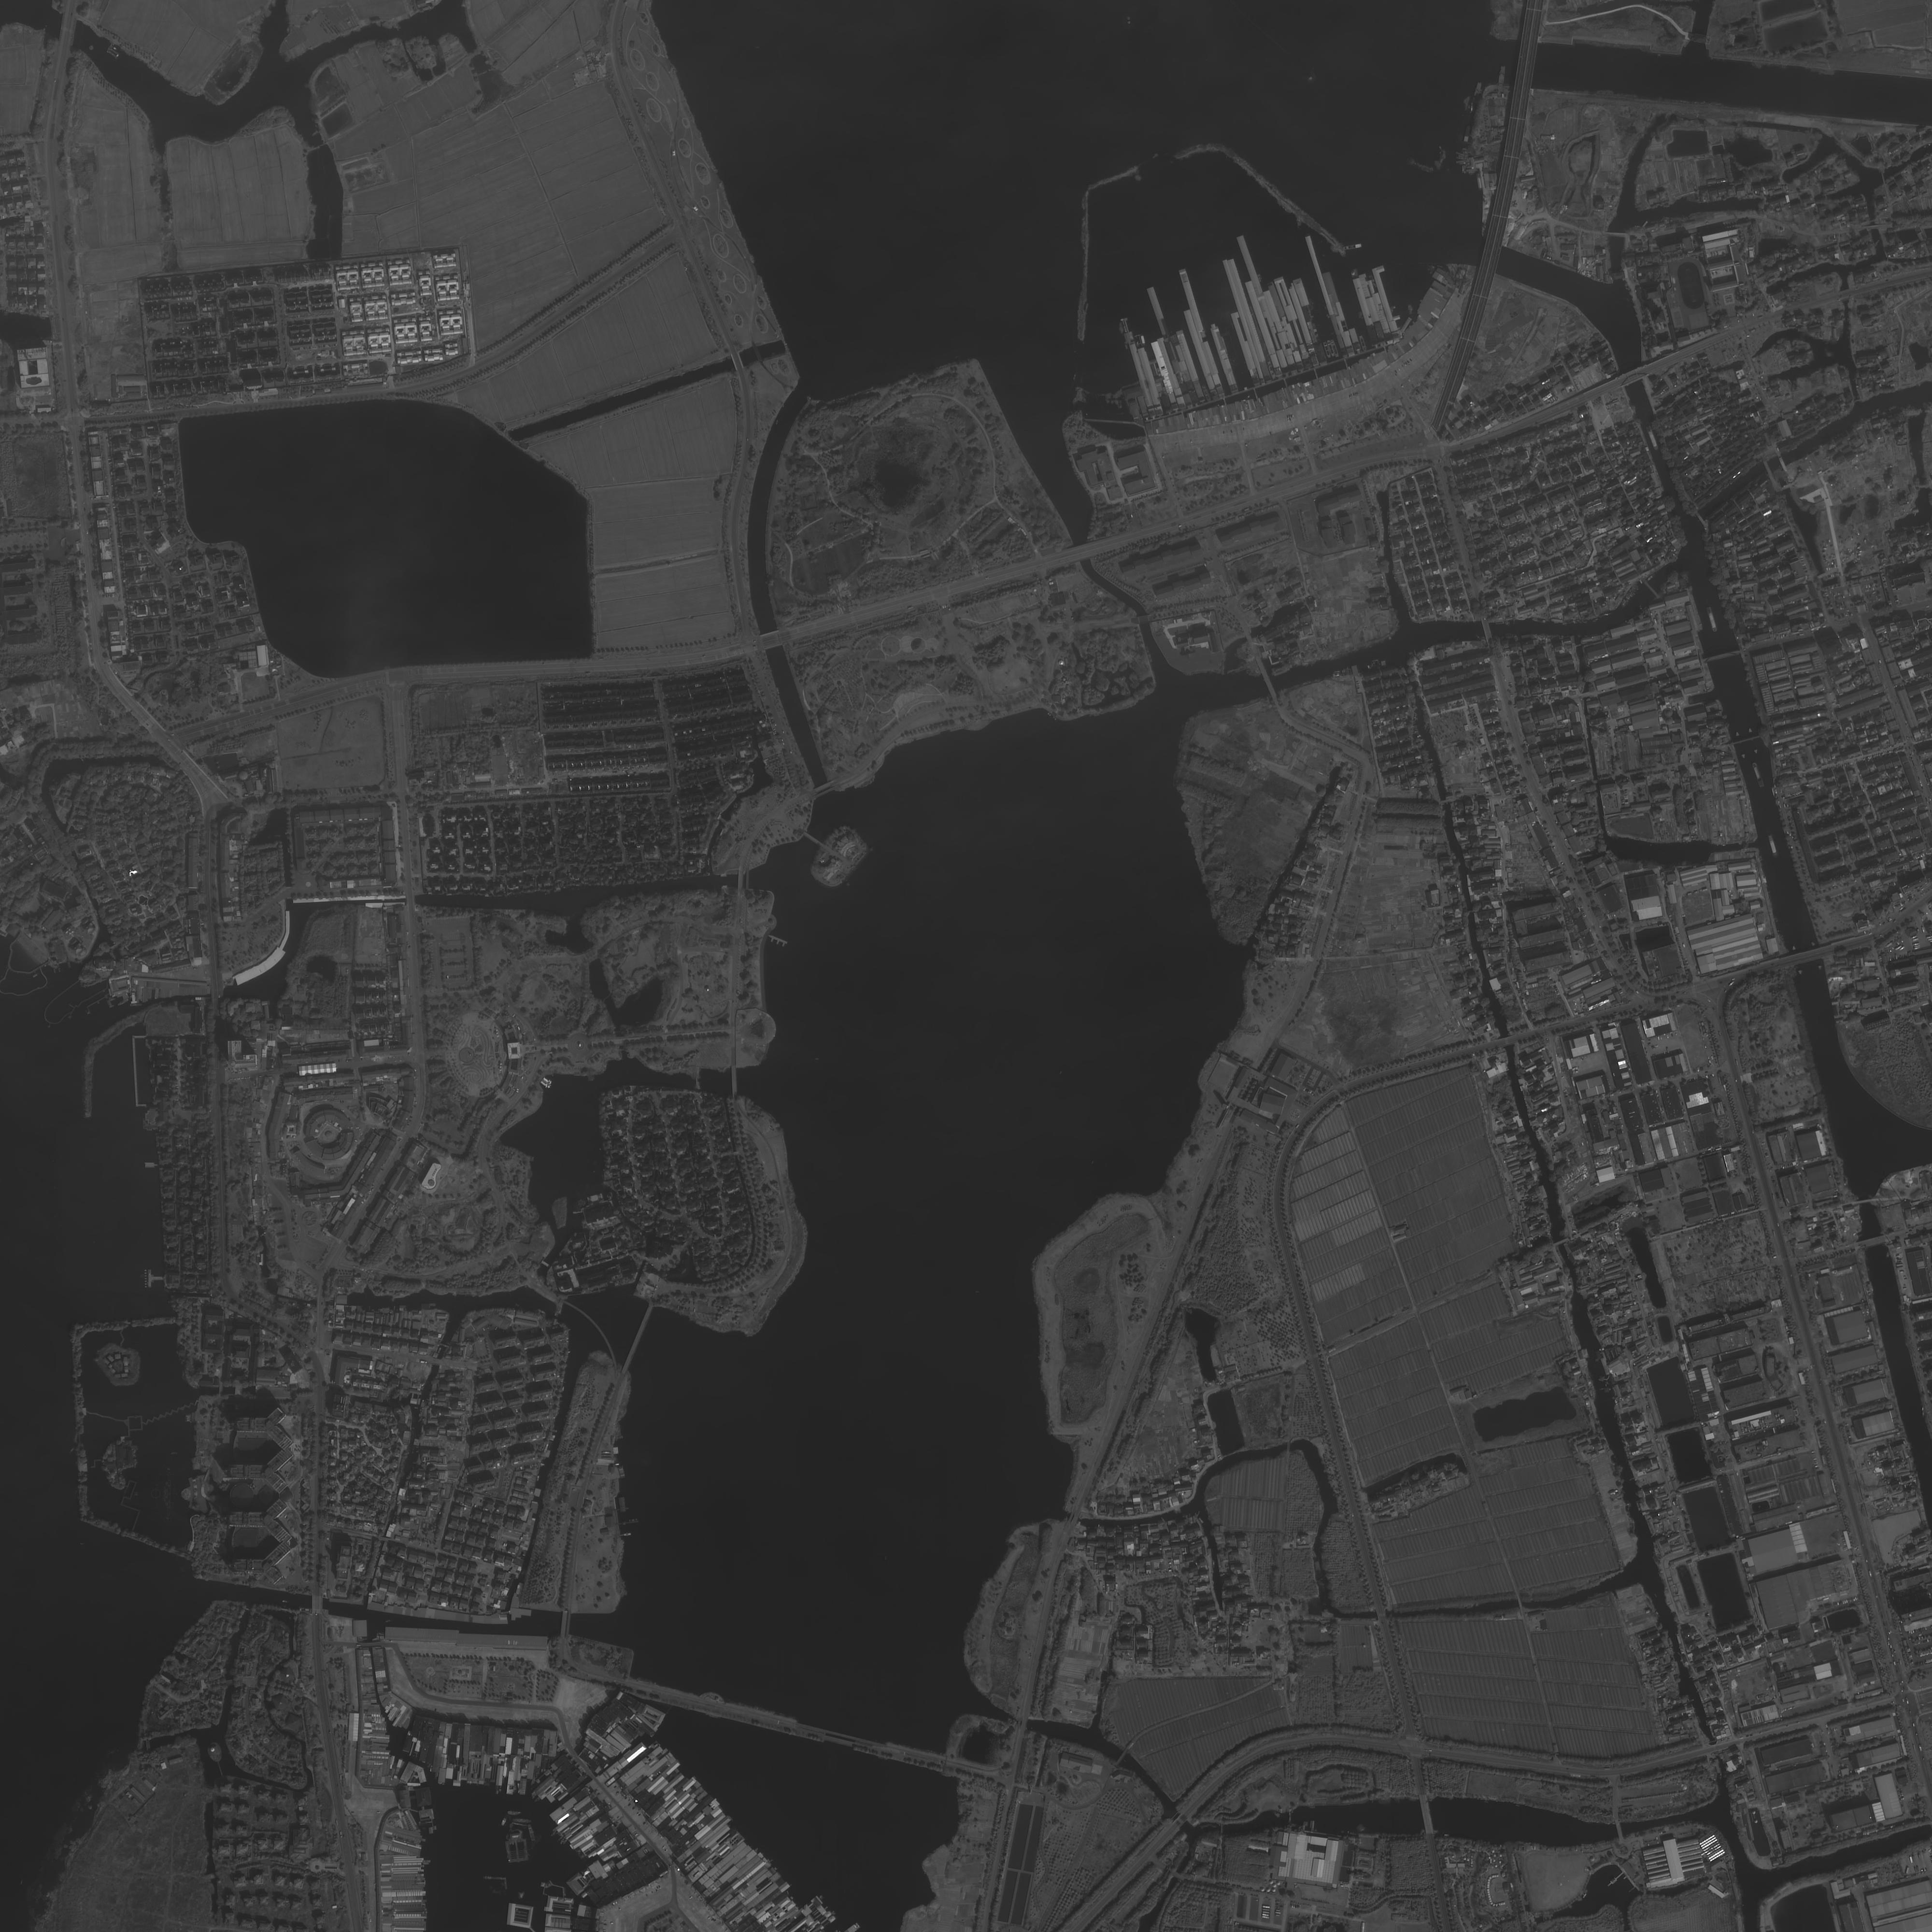harbor: (133, 1035, 152, 1107), (147, 1268, 165, 1287), (313, 1597, 323, 1615)
ship: (1752, 763, 1765, 789), (1647, 426, 1660, 450), (1707, 607, 1718, 633), (1767, 836, 1777, 856)
